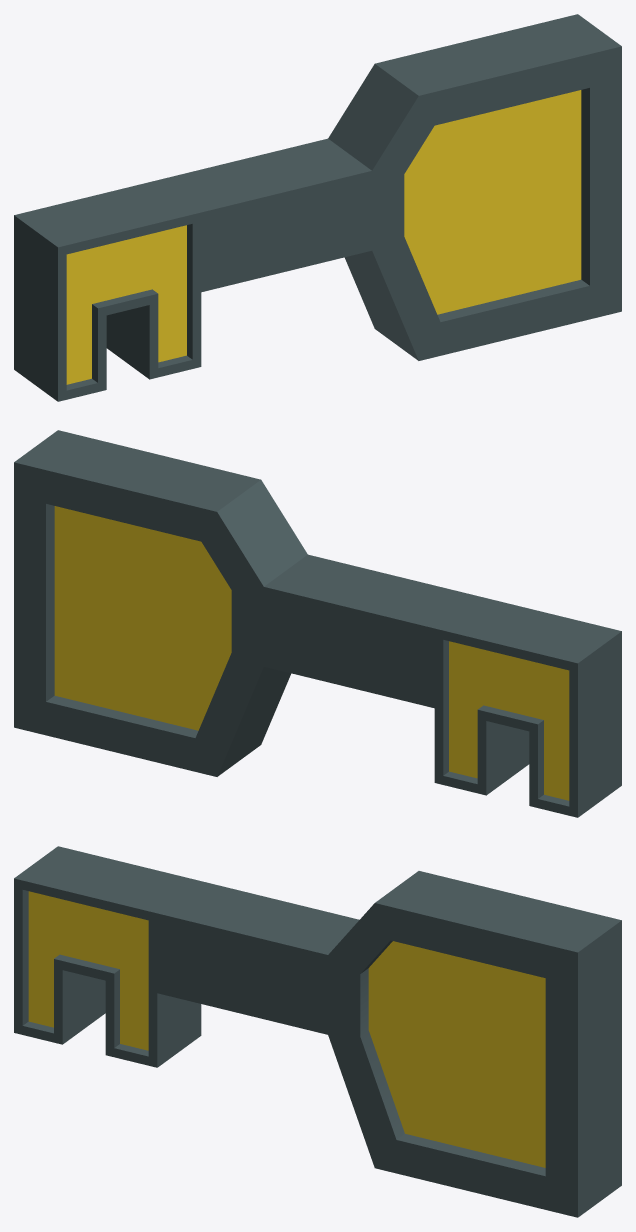
Rendered from Key.glb.
3 views of the same model, one above another, from view 1: azimuth 30°, elevation 25°; view 2: azimuth 150°, elevation 25°; view 3: azimuth 330°, elevation 25° (orthographic).
Visible parts, largest first — view 1: Key; view 2: Key; view 3: Key.
Boxes of the visible parts, x1,y1,x2,y2 form: Key: (14,14,621,401); Key: (14,430,621,817); Key: (14,846,621,1217).
Bounding box in the file's own units: 1.21 × 0.5424 × 0.1633.
